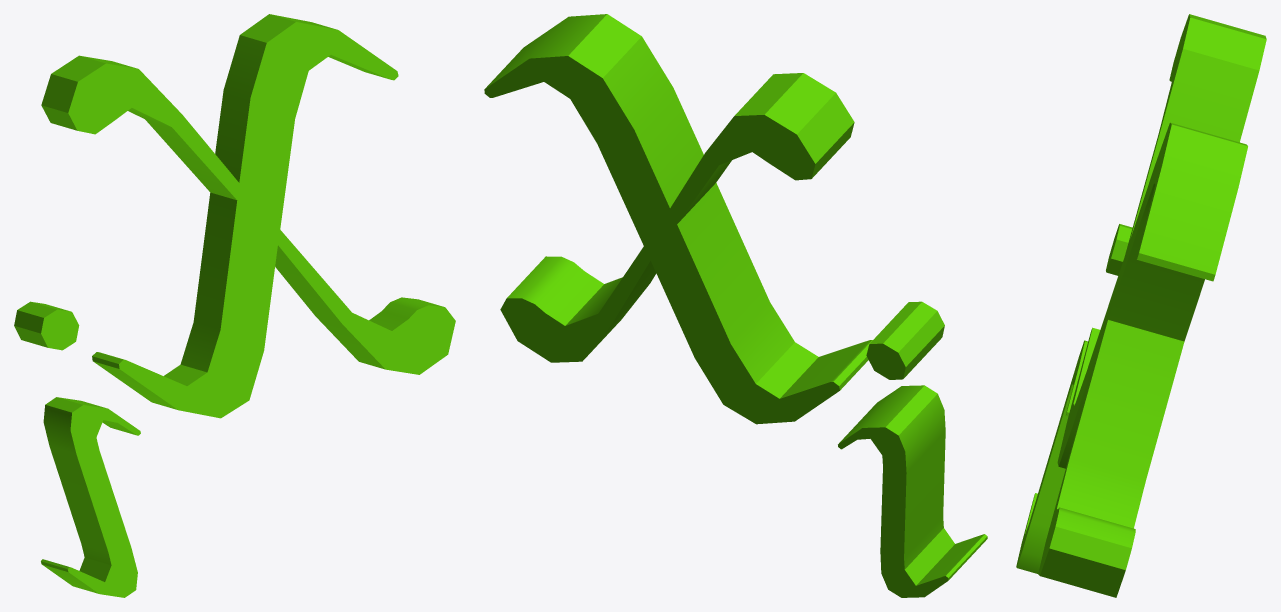
The picture shows the model from 3 angles, left to right: view 1: azimuth 30°, elevation 25°; view 2: azimuth 150°, elevation 25°; view 3: azimuth 270°, elevation 25°; orthographic projection. The views are drawn at different scales.
Visible parts, largest first — view 1: xi; view 2: xi; view 3: xi.
Part boxes in pixels (x1=…): xi: x1=14, y1=14, x2=455, y2=597; xi: x1=484, y1=14, x2=987, y2=597; xi: x1=1016, y1=14, x2=1266, y2=597.
Size of the model in its own units: 3.22 by 3.77 by 1.42.
